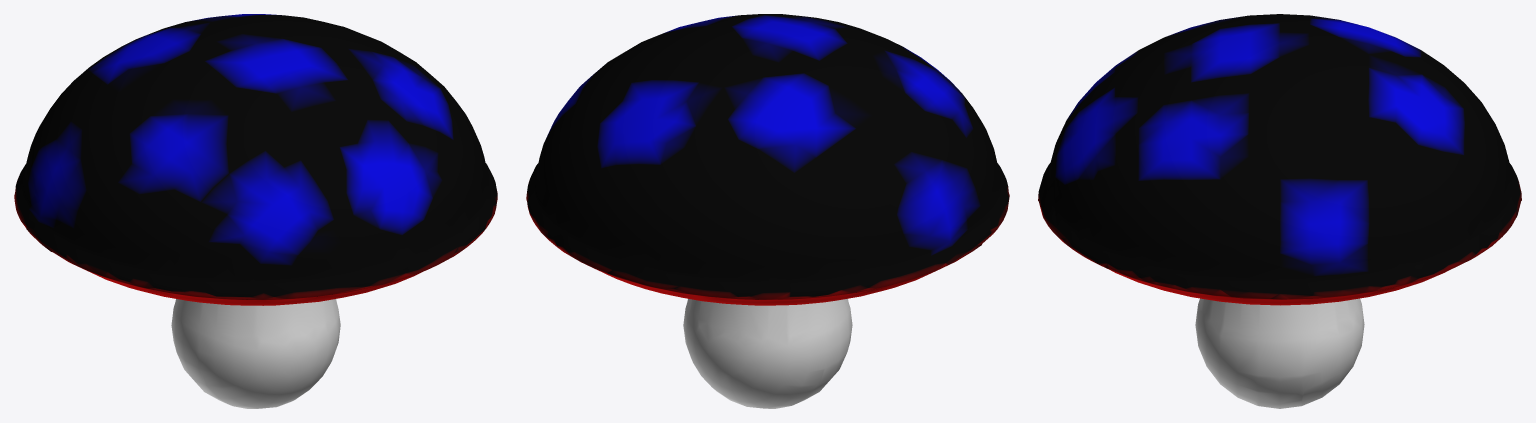
The model's file is prop-mush.glb.
3 renders of one model, left to right at view 1: azimuth 30°, elevation 25°; view 2: azimuth 150°, elevation 25°; view 3: azimuth 270°, elevation 25°, orthographic.
Visible parts, largest first — view 1: cap, stemMesh; view 2: cap, stemMesh; view 3: cap, stemMesh.
Part boxes in pixels (bbox=[...]): cap: bbox=[14, 14, 497, 305]; stemMesh: bbox=[171, 299, 340, 408]; cap: bbox=[526, 14, 1009, 305]; stemMesh: bbox=[683, 298, 852, 408]; cap: bbox=[1038, 14, 1521, 305]; stemMesh: bbox=[1195, 298, 1364, 408].
Bounding box in the file's own units: 3.43 × 2.8 × 3.43.
